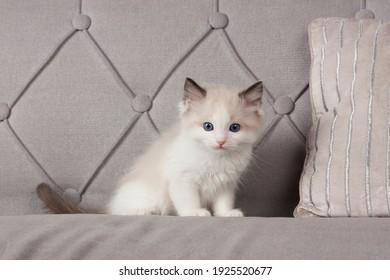ragdoll: (173, 67, 274, 167)
